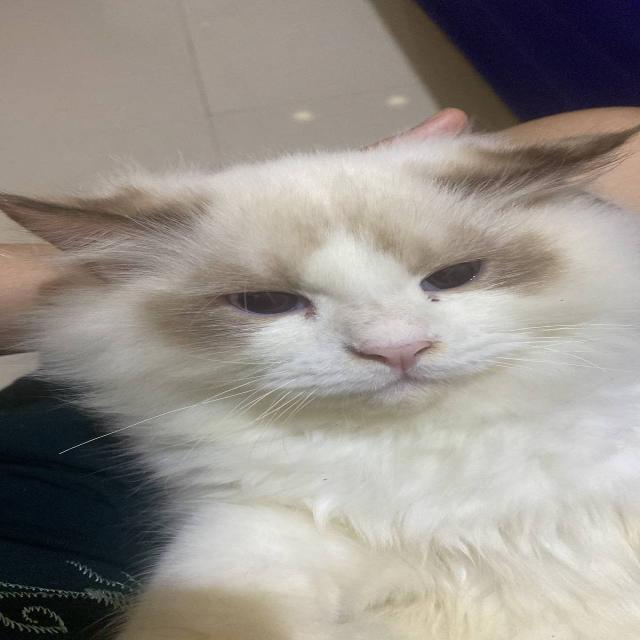da khoe manh: (205, 422, 639, 640)
